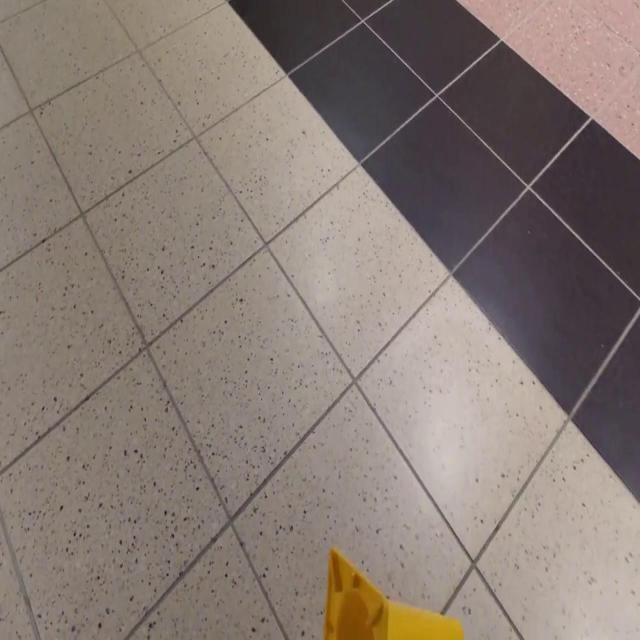frc_cone: (322, 546, 467, 640)
